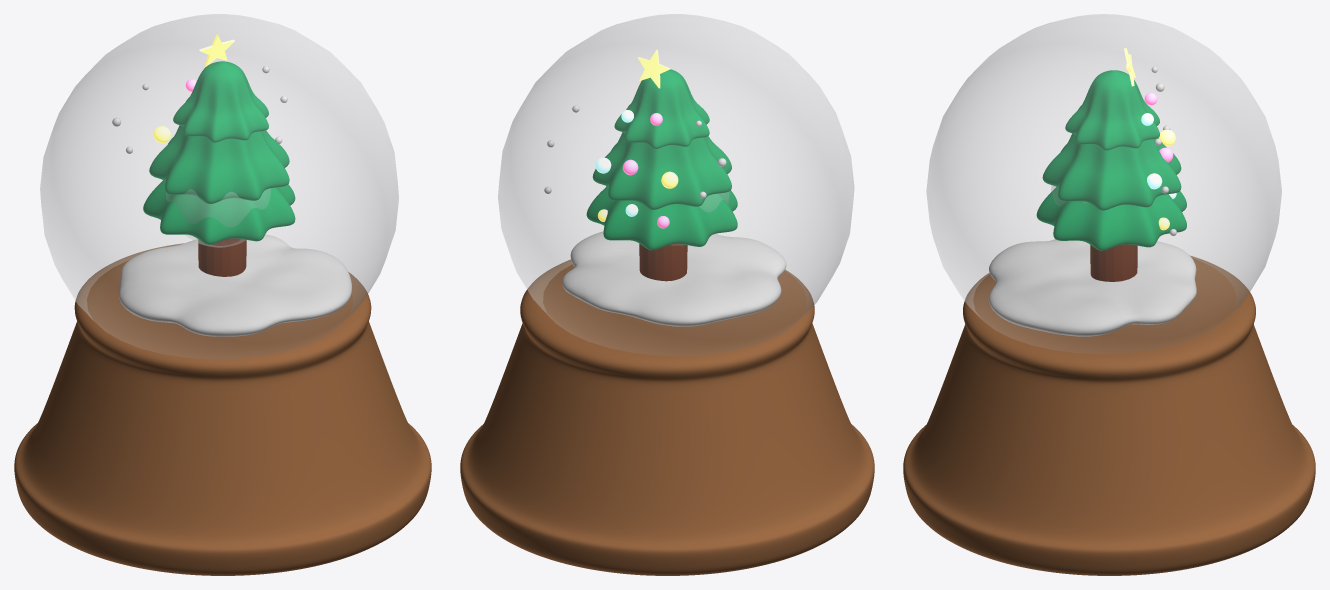
The model's file is Snowglobe.glb.
The picture shows the model from 3 angles, left to right: view 1: azimuth 30°, elevation 25°; view 2: azimuth 150°, elevation 25°; view 3: azimuth 270°, elevation 25°; orthographic projection.
Parts seen in each view (by area): view 1: 球, 円柱, SnowBall.001, 円柱.002, 円柱.003, 円柱.001, 円柱.004; view 2: 球, 円柱, SnowBall.001, 円柱.002, 円柱.003, 円柱.001, 円柱.004, 円; view 3: 球, 円柱, SnowBall.001, 円柱.002, 円柱.003, 円柱.001, 円柱.004.
Boxes of the visible parts, x1,y1,x2,y2 form: 球: (40, 14, 398, 359); 円柱: (14, 243, 431, 575); SnowBall.001: (119, 234, 351, 336); 円柱.002: (149, 125, 289, 203); 円柱.003: (143, 180, 295, 244); 円柱.001: (173, 61, 268, 142); 円柱.004: (198, 238, 246, 276); 球: (498, 14, 854, 355); 円柱: (460, 259, 874, 575); SnowBall.001: (562, 231, 786, 326); 円柱.002: (592, 132, 731, 209); 円柱.003: (586, 186, 737, 250); 円柱.001: (614, 69, 709, 148); 円柱.004: (639, 244, 687, 281); 円: (637, 49, 670, 88); 球: (926, 14, 1281, 353); 円柱: (903, 255, 1315, 575); SnowBall.001: (988, 239, 1196, 336); 円柱.002: (1042, 133, 1181, 210); 円柱.003: (1036, 187, 1186, 250); 円柱.001: (1065, 70, 1159, 150); 円柱.004: (1090, 244, 1137, 281).
Bounding box in the file's own units: 1.13 × 1.41 × 1.13.
